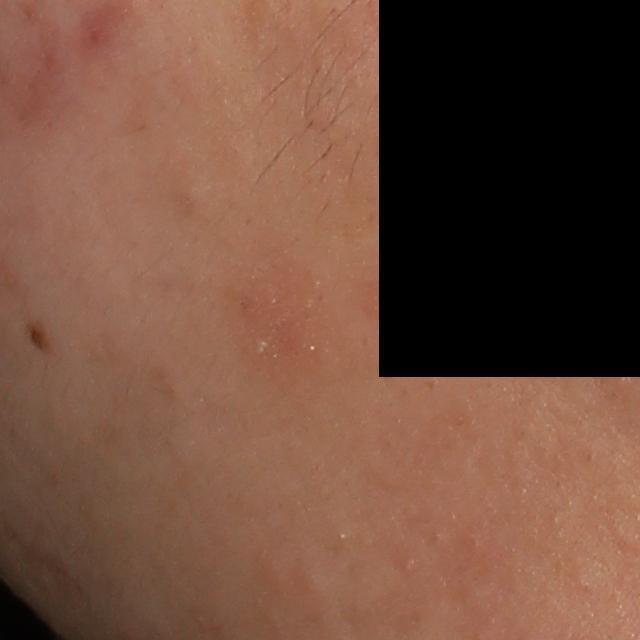comedo: (172, 181, 212, 216)
